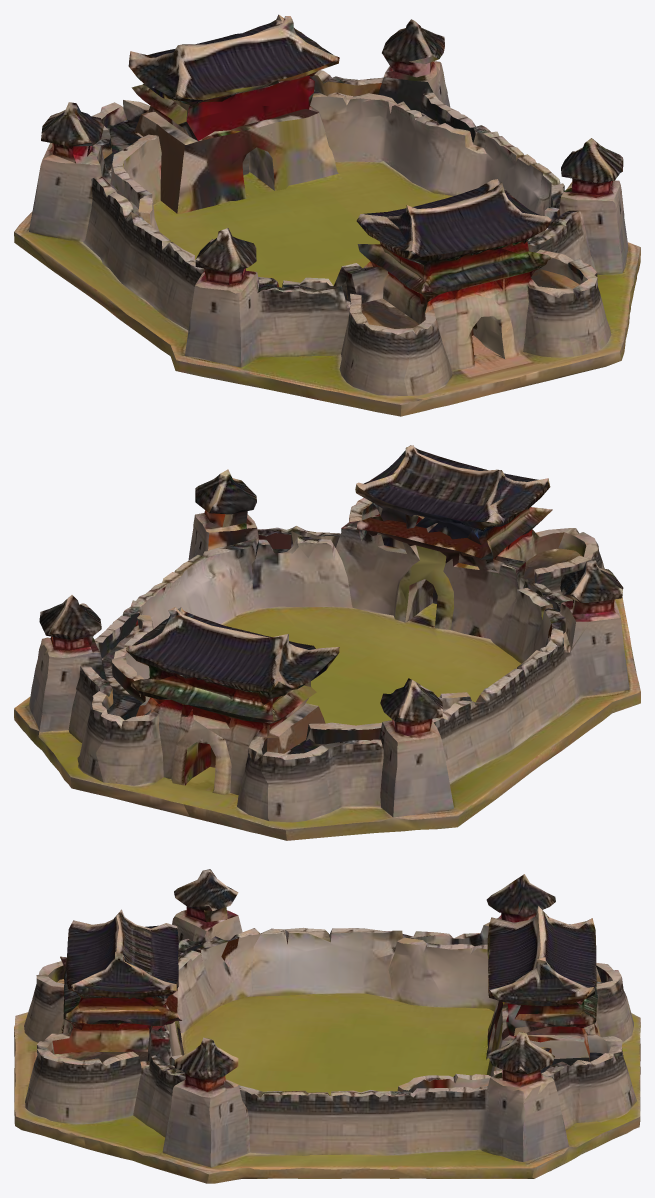
Rendered from hwaseong-fortress.glb.
3 views of the same model, one above another, from view 1: azimuth 30°, elevation 25°; view 2: azimuth 150°, elevation 25°; view 3: azimuth 270°, elevation 25° (orthographic). The views are drawn at different scales.
Visible parts, largest first — view 1: logan-textured.obj; view 2: logan-textured.obj; view 3: logan-textured.obj.
Boxes of the visible parts, left/top/right/bottom form: logan-textured.obj: left=14, top=14, right=640, bottom=416; logan-textured.obj: left=14, top=445, right=640, bottom=840; logan-textured.obj: left=14, top=869, right=640, bottom=1183.
Bounding box in the file's own units: 0.8084 × 0.2576 × 1.
1 material, 1 textured.
